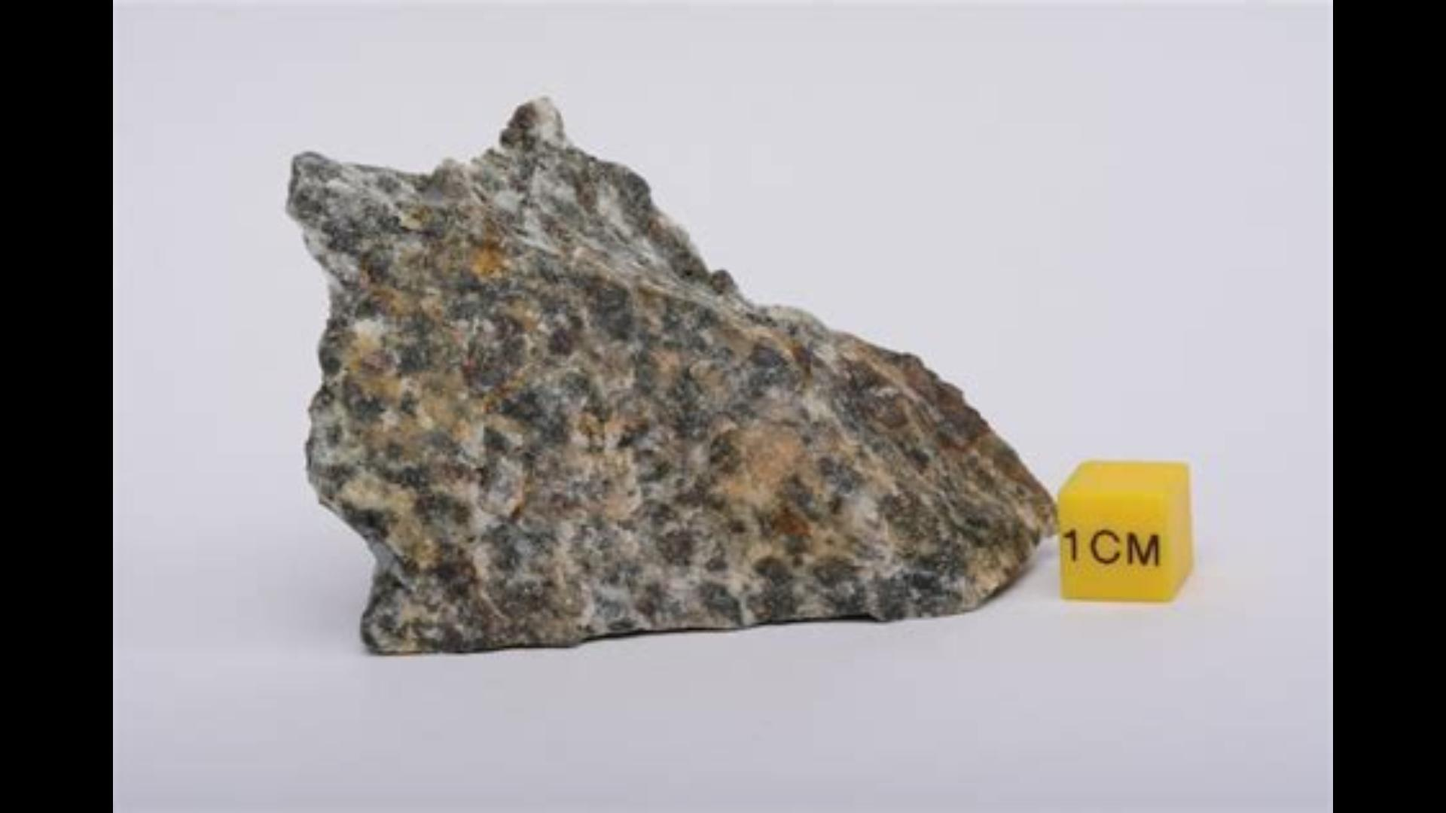rock: (288, 100, 1050, 648)
